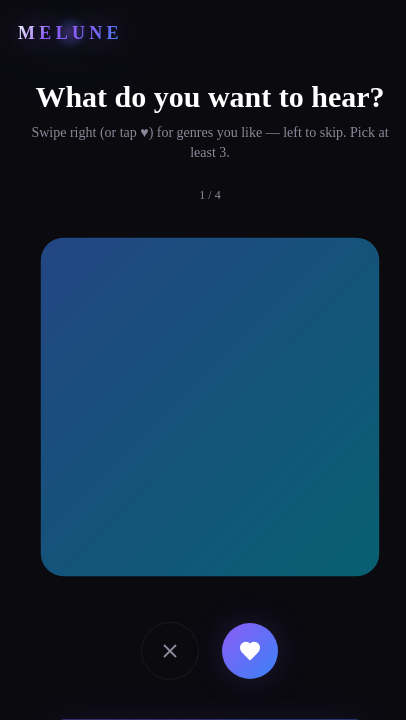
OnboardingPage (Tinder-style swipe deck) › tapping Skip advances without adding to the selection
The image size is (406, 720).
What coordinates should you click on to do the following:
click the button named "Skip Lo-fi"
I would click on:
 (170, 651)
Its box is x1=142 y1=623 x2=198 y2=679.
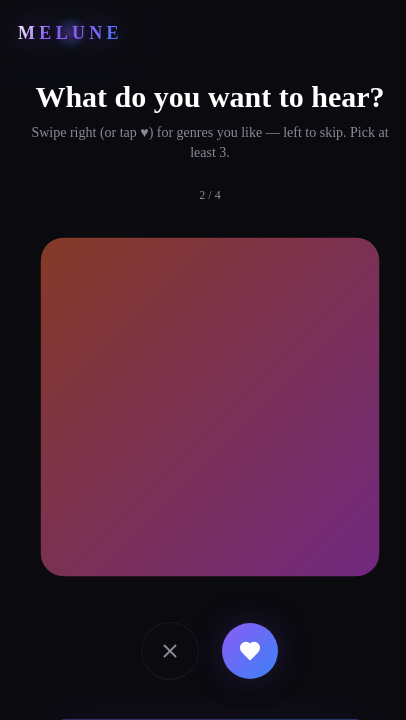
What coordinates should you click on to do the following:
click the button named "Skip Synthwave"
I would click on:
 (170, 651)
Its box is x1=142 y1=623 x2=198 y2=679.
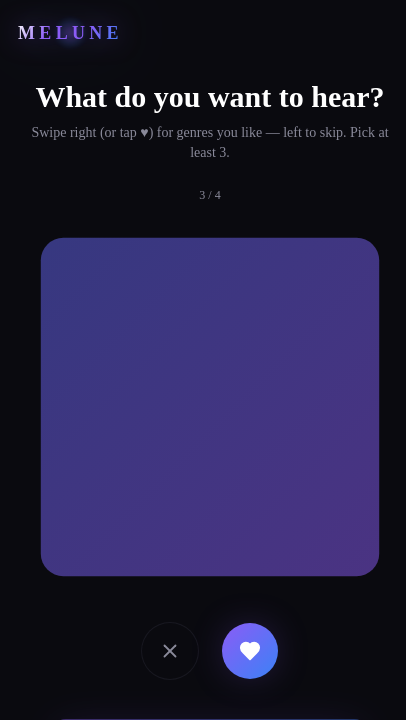
What coordinates should you click on to do the following:
click the button named "Skip Persian Pop"
I would click on:
 (170, 651)
Its box is x1=142 y1=623 x2=198 y2=679.
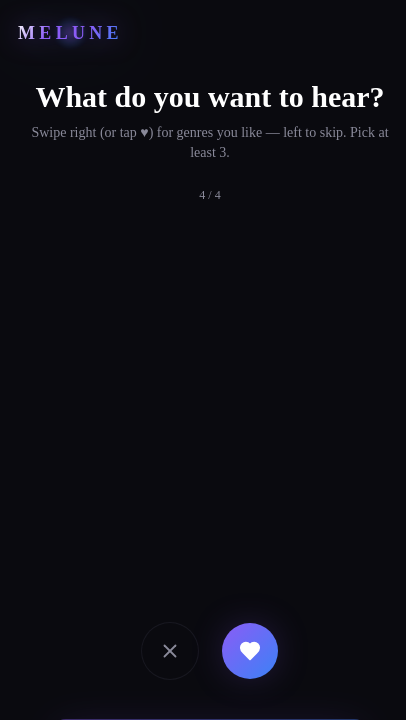
What coordinates should you click on to do the following:
click the button named "Skip Jazz"
I would click on:
 (170, 651)
Its box is x1=142 y1=623 x2=198 y2=679.
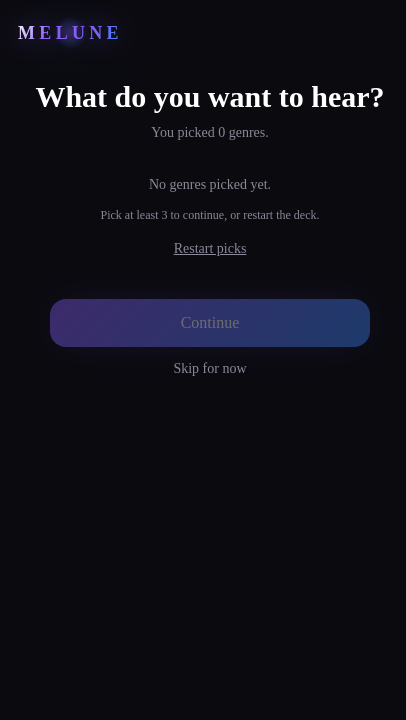
Expected: the button "Continue" is disabled, x1=50 y1=299 x2=370 y2=347
Expected: the text "No genres picked yet." is shown, x1=149 y1=175 x2=271 y2=195
